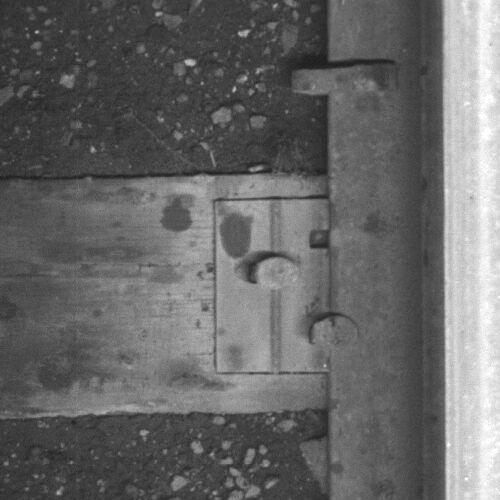crutch: (290, 60, 400, 97)
do: (212, 198, 362, 374)
hole_do: (302, 220, 341, 257)
rail: (442, 1, 500, 500)
tie_wood: (1, 180, 328, 412)
